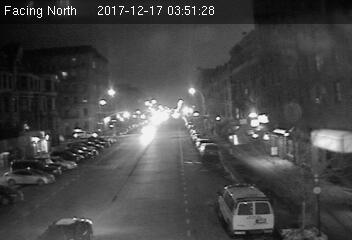police: (215, 184, 277, 234)
